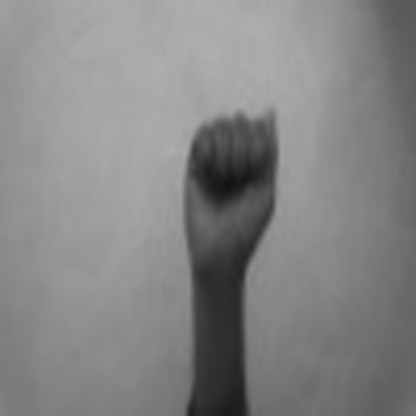a: (176, 93, 285, 276)
